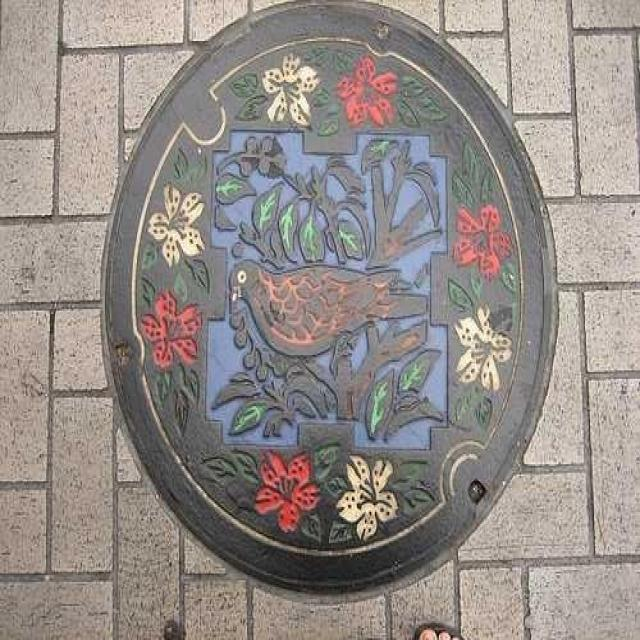manhole: (99, 3, 559, 601)
